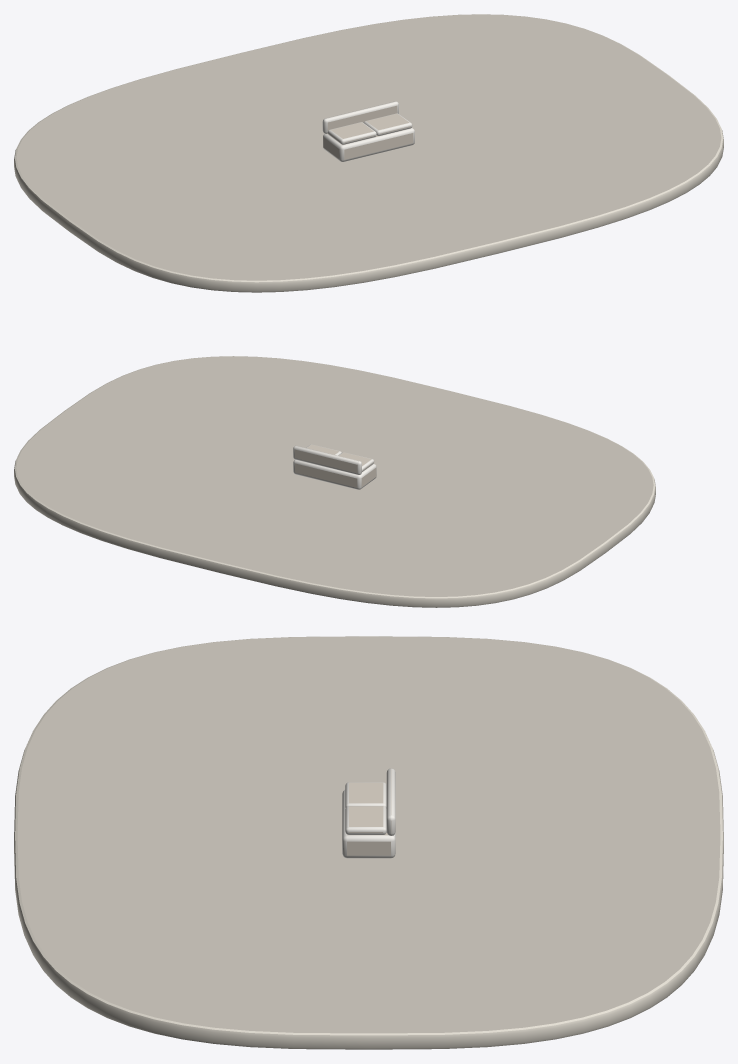
The picture shows the model from 3 angles, top to bottom: view 1: azimuth 30°, elevation 25°; view 2: azimuth 150°, elevation 25°; view 3: azimuth 270°, elevation 25°; orthographic projection. The views are drawn at different scales.
Parts seen in each view (by area): view 1: T_Floor, T_Sofa; view 2: T_Floor, T_Sofa; view 3: T_Floor, T_Sofa.
Part boxes in pixels (x1,y1,x2,y2): T_Floor: (14,14,723,292); T_Sofa: (322,101,414,161); T_Floor: (14,356,655,607); T_Sofa: (293,444,376,489); T_Floor: (14,636,723,1049); T_Sofa: (342,768,395,858).
Bounding box in the file's own units: 16 × 12 × 1.1.
